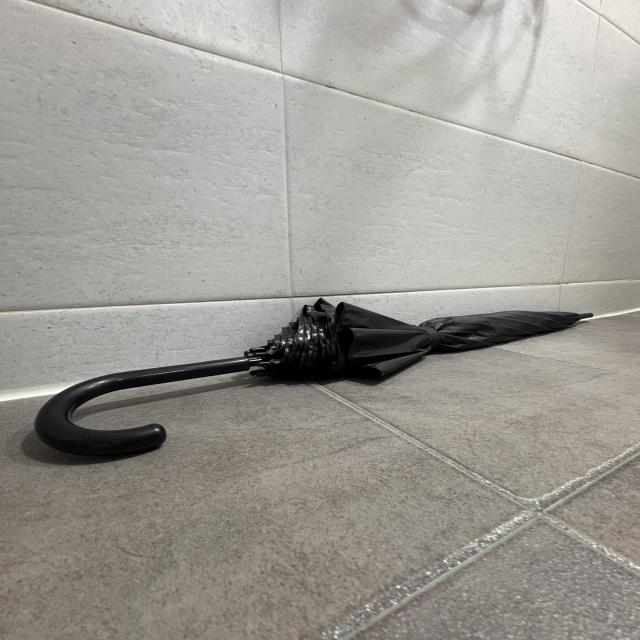umbrella: (32, 298, 590, 463)
